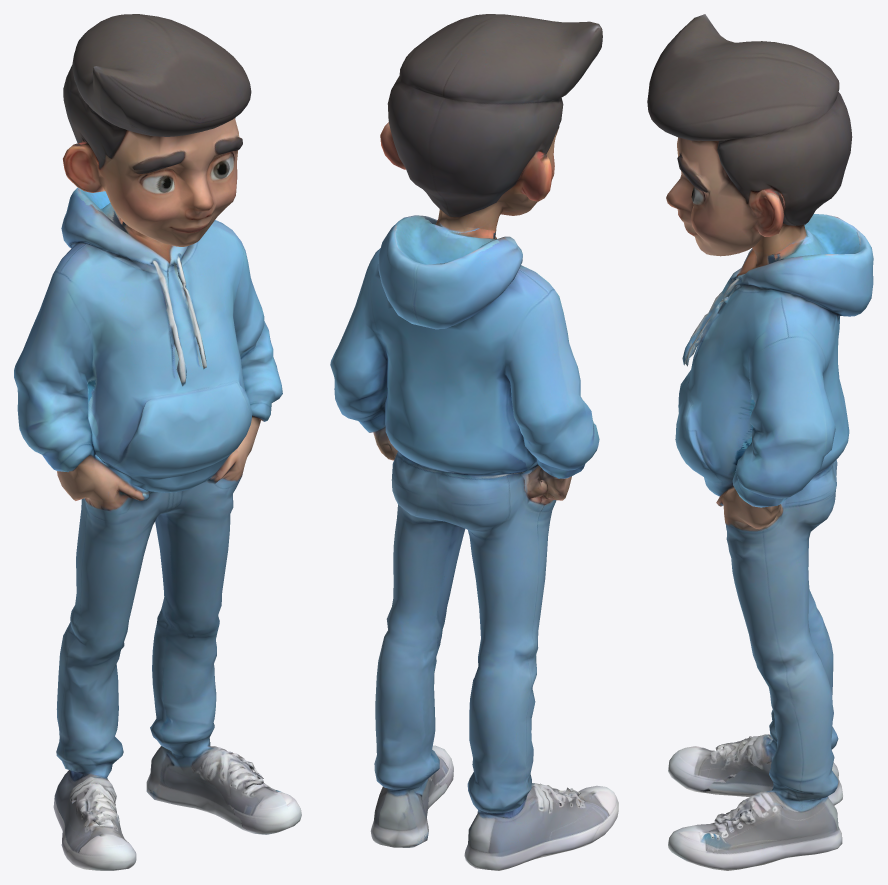
File: character.glb
3 renders of one model, left to right at view 1: azimuth 30°, elevation 25°; view 2: azimuth 150°, elevation 25°; view 3: azimuth 270°, elevation 25°, orthographic. The views are drawn at different scales.
Bounding box in the file's own units: 0.6429 × 2 × 0.5339.
Materials: 1 (1 with a texture image).
